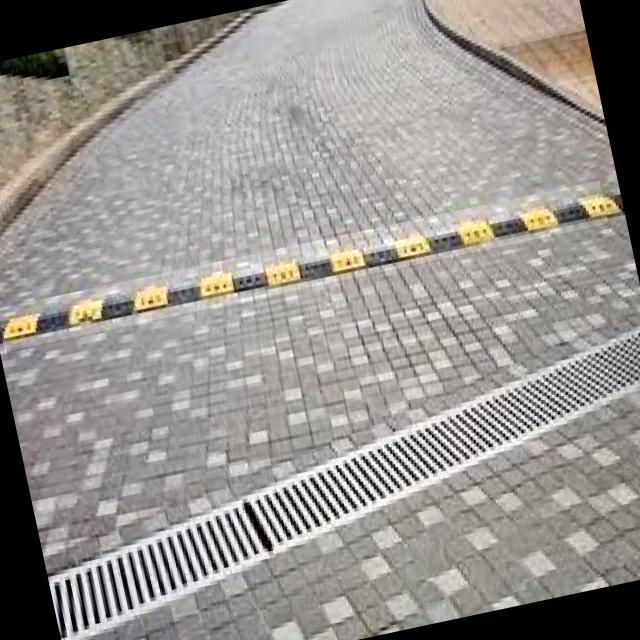bump: (0, 180, 608, 351)
